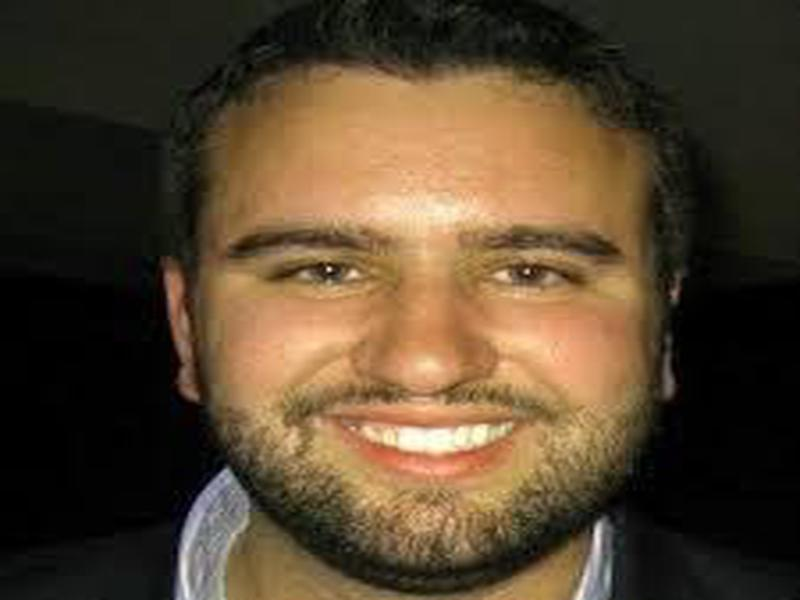without_mask: (200, 70, 649, 568)
